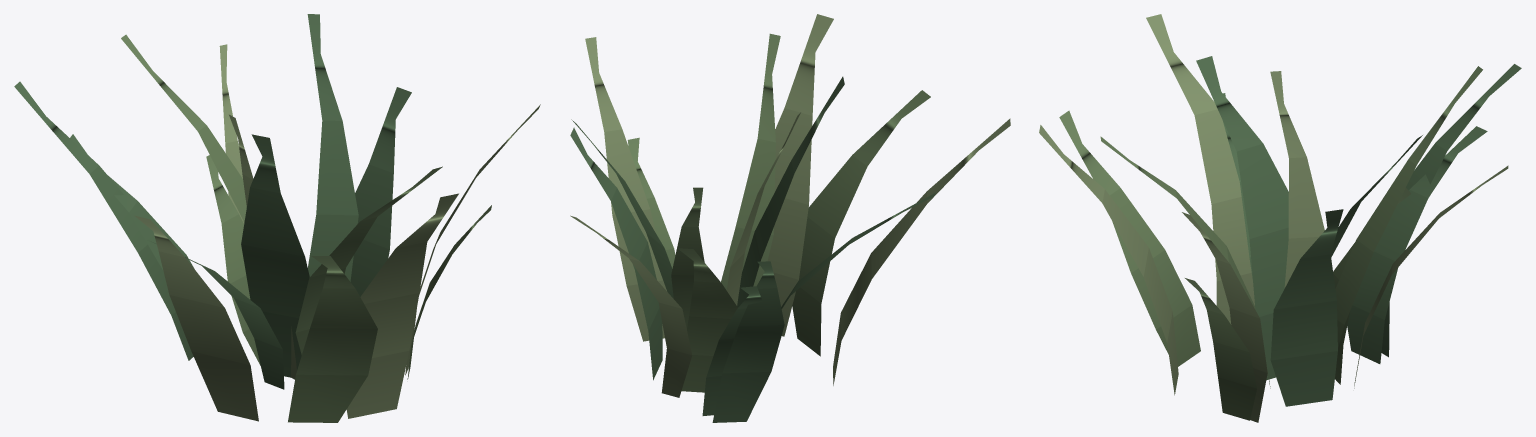
File: mangrove-sculpted-ground-detail.glb
3 views of the same model, side by side, from view 1: azimuth 30°, elevation 25°; view 2: azimuth 150°, elevation 25°; view 3: azimuth 270°, elevation 25° (orthographic). The views are drawn at different scales.
Visible parts, largest first — view 1: mangrove-3d-ground-detail; view 2: mangrove-3d-ground-detail; view 3: mangrove-3d-ground-detail.
Part boxes in pixels (x1,y1,x2,y2): mangrove-3d-ground-detail: (14,14,540,422); mangrove-3d-ground-detail: (570,14,1010,422); mangrove-3d-ground-detail: (1039,14,1521,422).
Size of the model in its own units: 0.4104 by 0.2708 by 0.4219.
